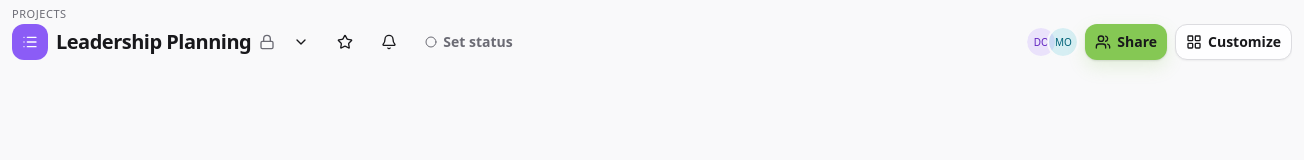
ProjectHeader › gives a viewer a read-only row: no actions caret beyond Leave
Click the button named "actions for leadership planning": (301, 42) top-left (283, 24), bottom-right (319, 60)
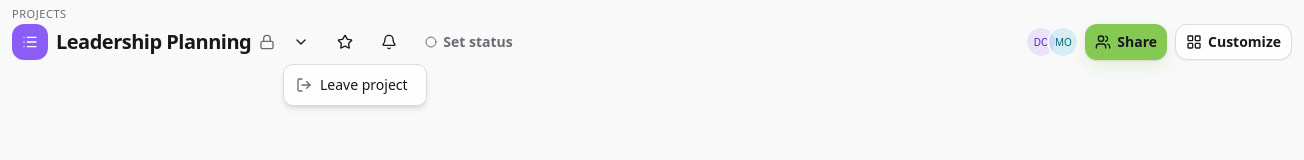
Check: the menu item "Leave project" is shown, box top-left (296, 75), bottom-right (408, 94)
